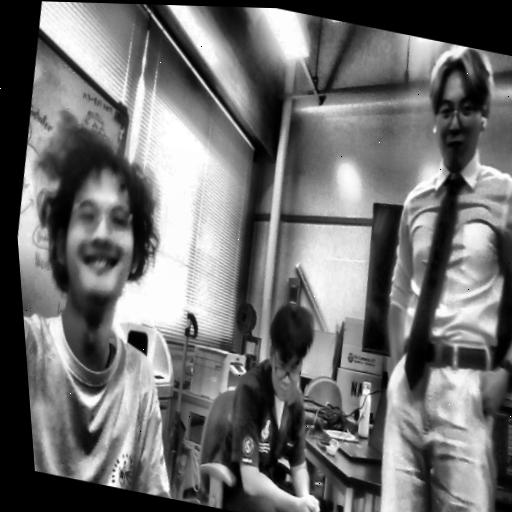Daifuku: (17, 116, 177, 325)
Not Daifuku: (415, 40, 506, 172), (255, 296, 322, 404)
